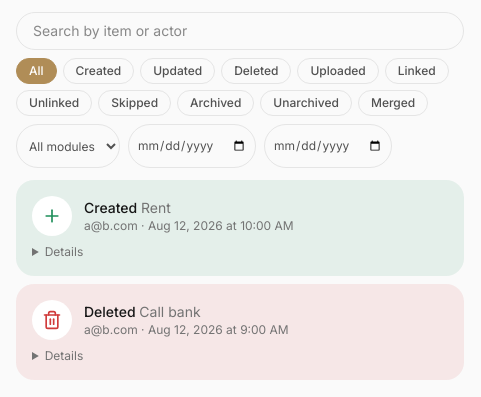
Scenario: ActivityLogList › filters entries by search query
This screenshot has width=481, height=397.
Type "rent" into the field with test id "activity-search-input".
click(240, 31); type("rent")  # box left=16, top=12, right=464, bottom=50
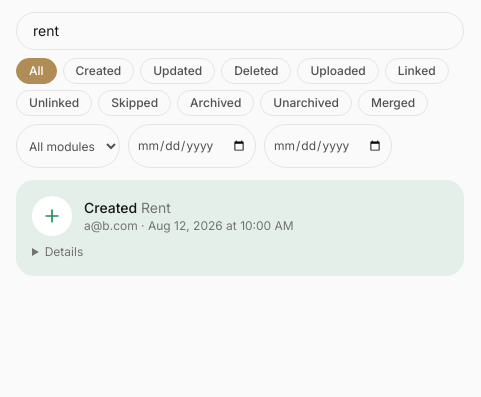
Expected: the number of elements with test id "activity-log-entry" is 1, left=16, top=180, right=464, bottom=276
